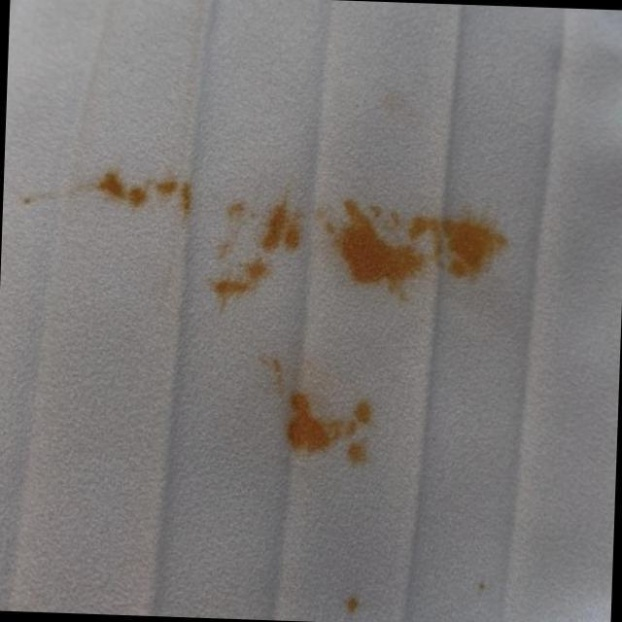kimchi: (16, 160, 516, 307), (254, 343, 384, 487), (336, 588, 371, 621), (468, 571, 496, 598)
